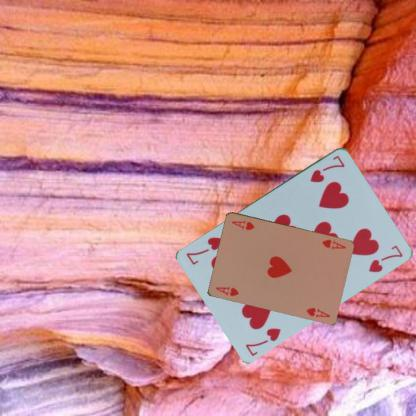7h: (307, 152, 346, 184), (243, 325, 282, 357)
Ah: (212, 284, 240, 298), (319, 237, 347, 251)
